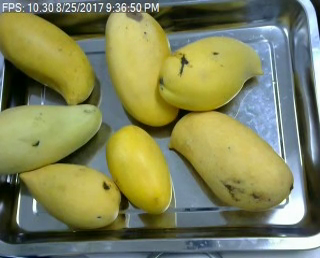Mango: (167, 105, 295, 211), (94, 1, 184, 131), (155, 33, 264, 120), (0, 10, 95, 106), (0, 102, 106, 178), (15, 159, 124, 229), (104, 121, 180, 216)
